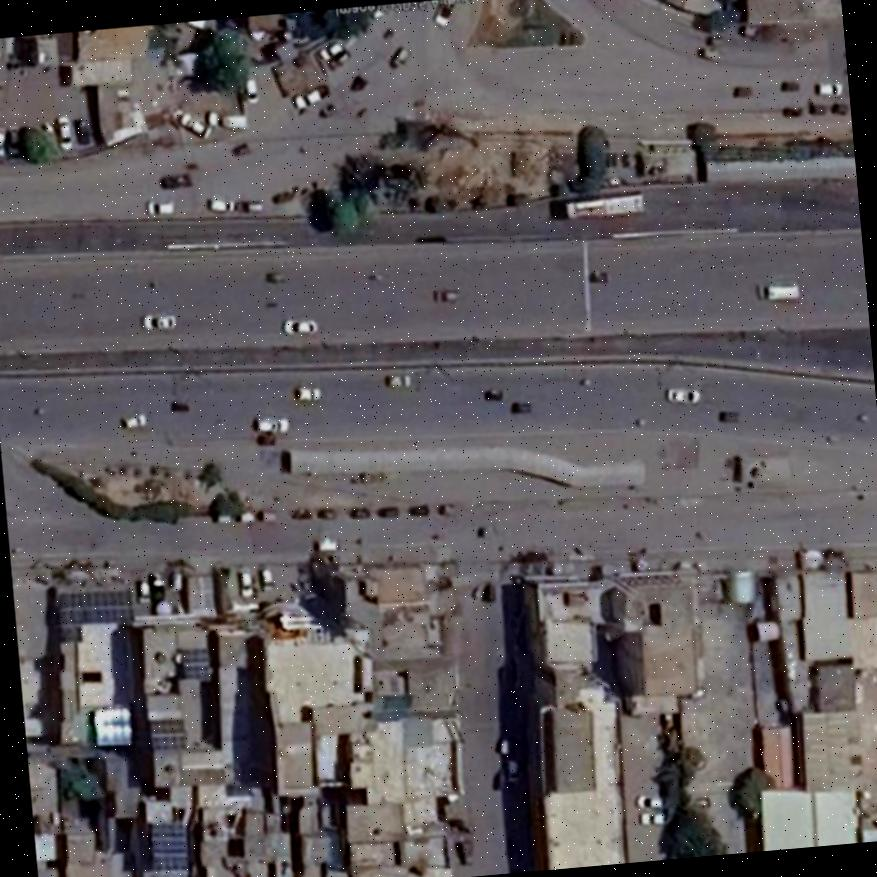Solarpanel: (56, 588, 133, 622), (149, 825, 191, 871), (148, 719, 184, 754), (183, 647, 212, 675)
